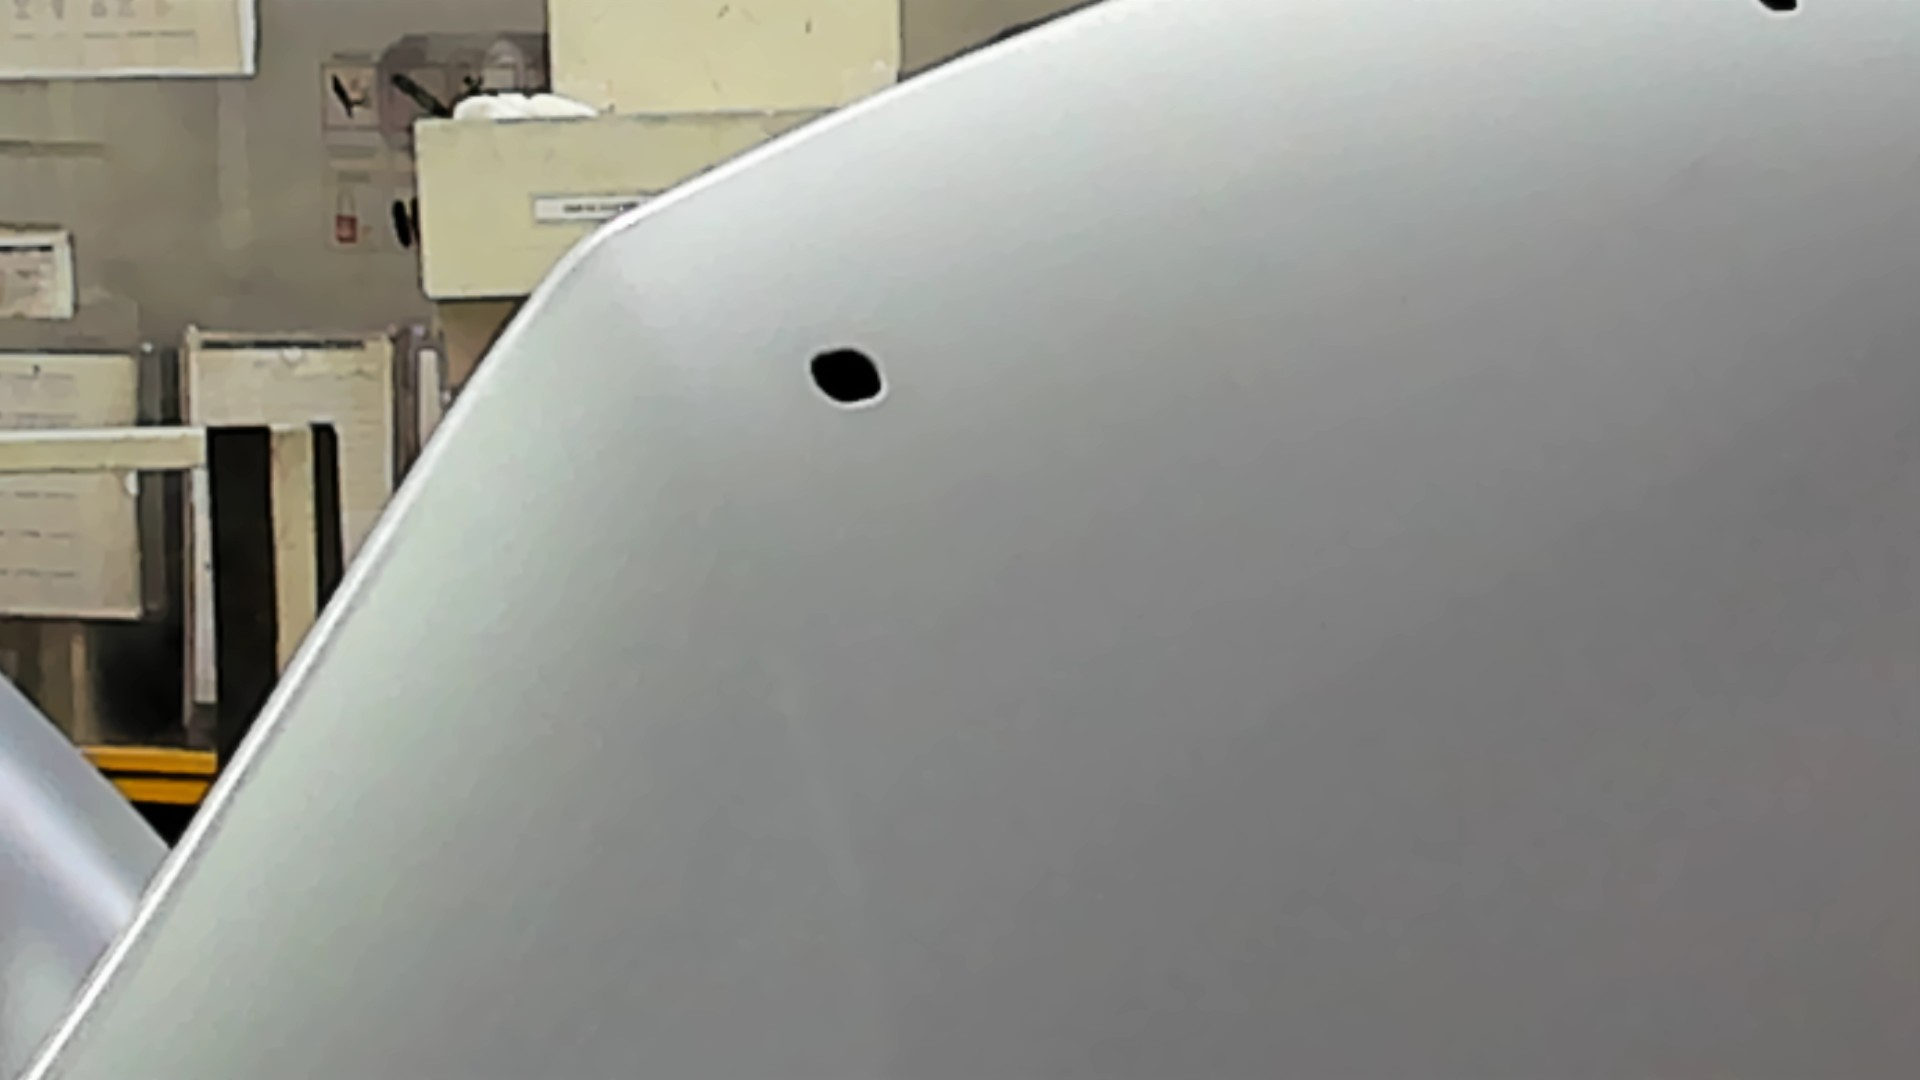amorfo: (800, 342, 893, 406), (1760, 1, 1807, 24)
